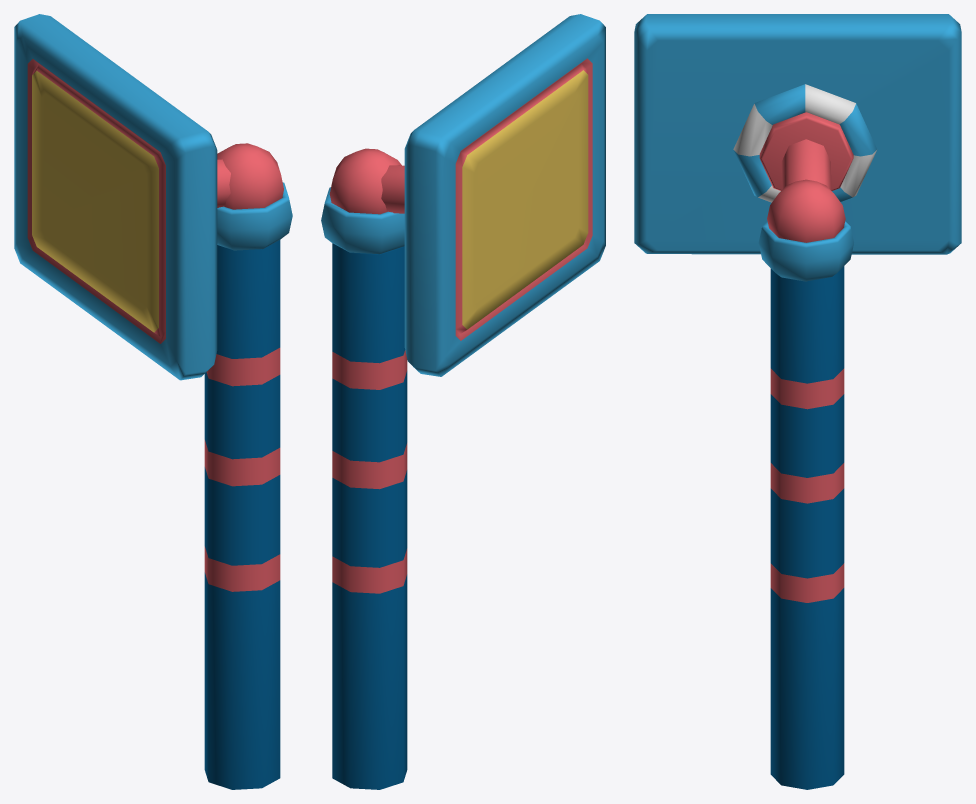
The model's file is plataformaPilarSimple.fbx.
3 renders of one model, left to right at view 1: azimuth 30°, elevation 25°; view 2: azimuth 150°, elevation 25°; view 3: azimuth 270°, elevation 25°, orthographic. The views are drawn at different scales.
Visible parts, largest first — view 1: plataforma, pilar, regulador; view 2: plataforma, pilar, regulador; view 3: plataforma, pilar, regulador.
Boxes of the visible parts, left/top/right/bottom form: plataforma: left=14, top=14, right=283, bottom=380; pilar: left=204, top=240, right=280, bottom=789; regulador: left=217, top=182, right=292, bottom=250; plataforma: left=329, top=14, right=605, bottom=376; pilar: left=332, top=243, right=407, bottom=789; regulador: left=321, top=187, right=404, bottom=254; plataforma: left=634, top=14, right=961, bottom=254; pilar: left=770, top=266, right=844, bottom=789; regulador: left=758, top=221, right=853, bottom=281.
Size of the model in its own units: 1176 by 4175 by 1786.
